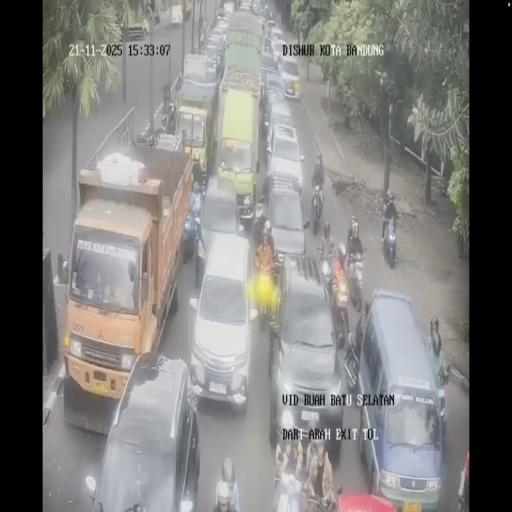car: (356, 292, 444, 505), (89, 353, 200, 508), (268, 258, 343, 452), (198, 173, 246, 270), (264, 188, 306, 262), (266, 116, 304, 196), (261, 69, 287, 123), (202, 41, 224, 82), (280, 55, 300, 99), (260, 40, 275, 69), (270, 26, 284, 49), (170, 4, 183, 28), (215, 6, 229, 24), (240, 0, 252, 12), (252, 0, 261, 15)
motorcycle: (430, 354, 450, 433), (331, 272, 351, 342), (255, 262, 276, 324), (348, 254, 366, 312), (381, 215, 398, 268), (319, 251, 335, 299), (309, 182, 324, 231), (254, 196, 267, 228)
truck: (173, 70, 218, 180), (222, 7, 264, 84), (123, 2, 148, 41)
